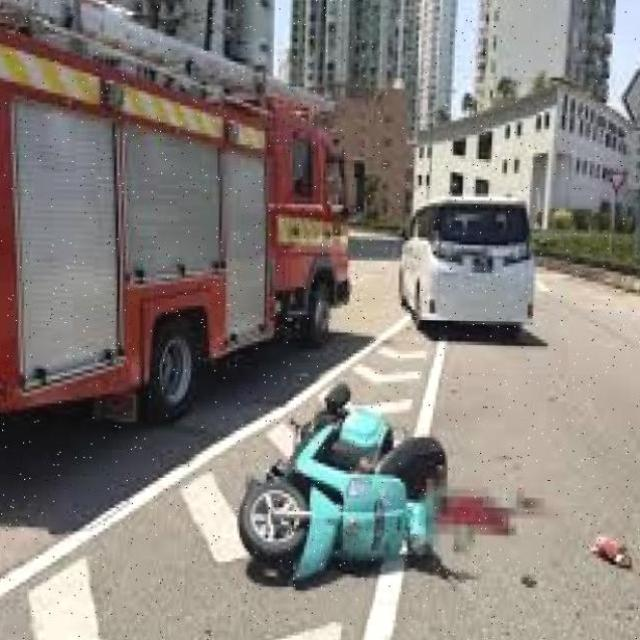accident: (236, 366, 500, 618)
